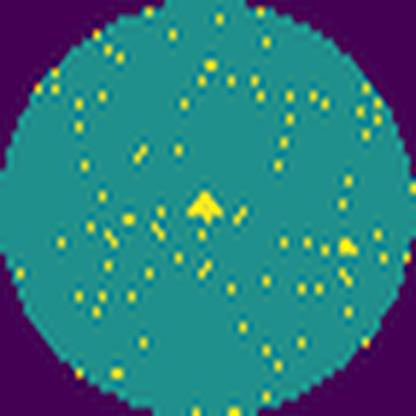Center: (187, 191, 225, 221)
